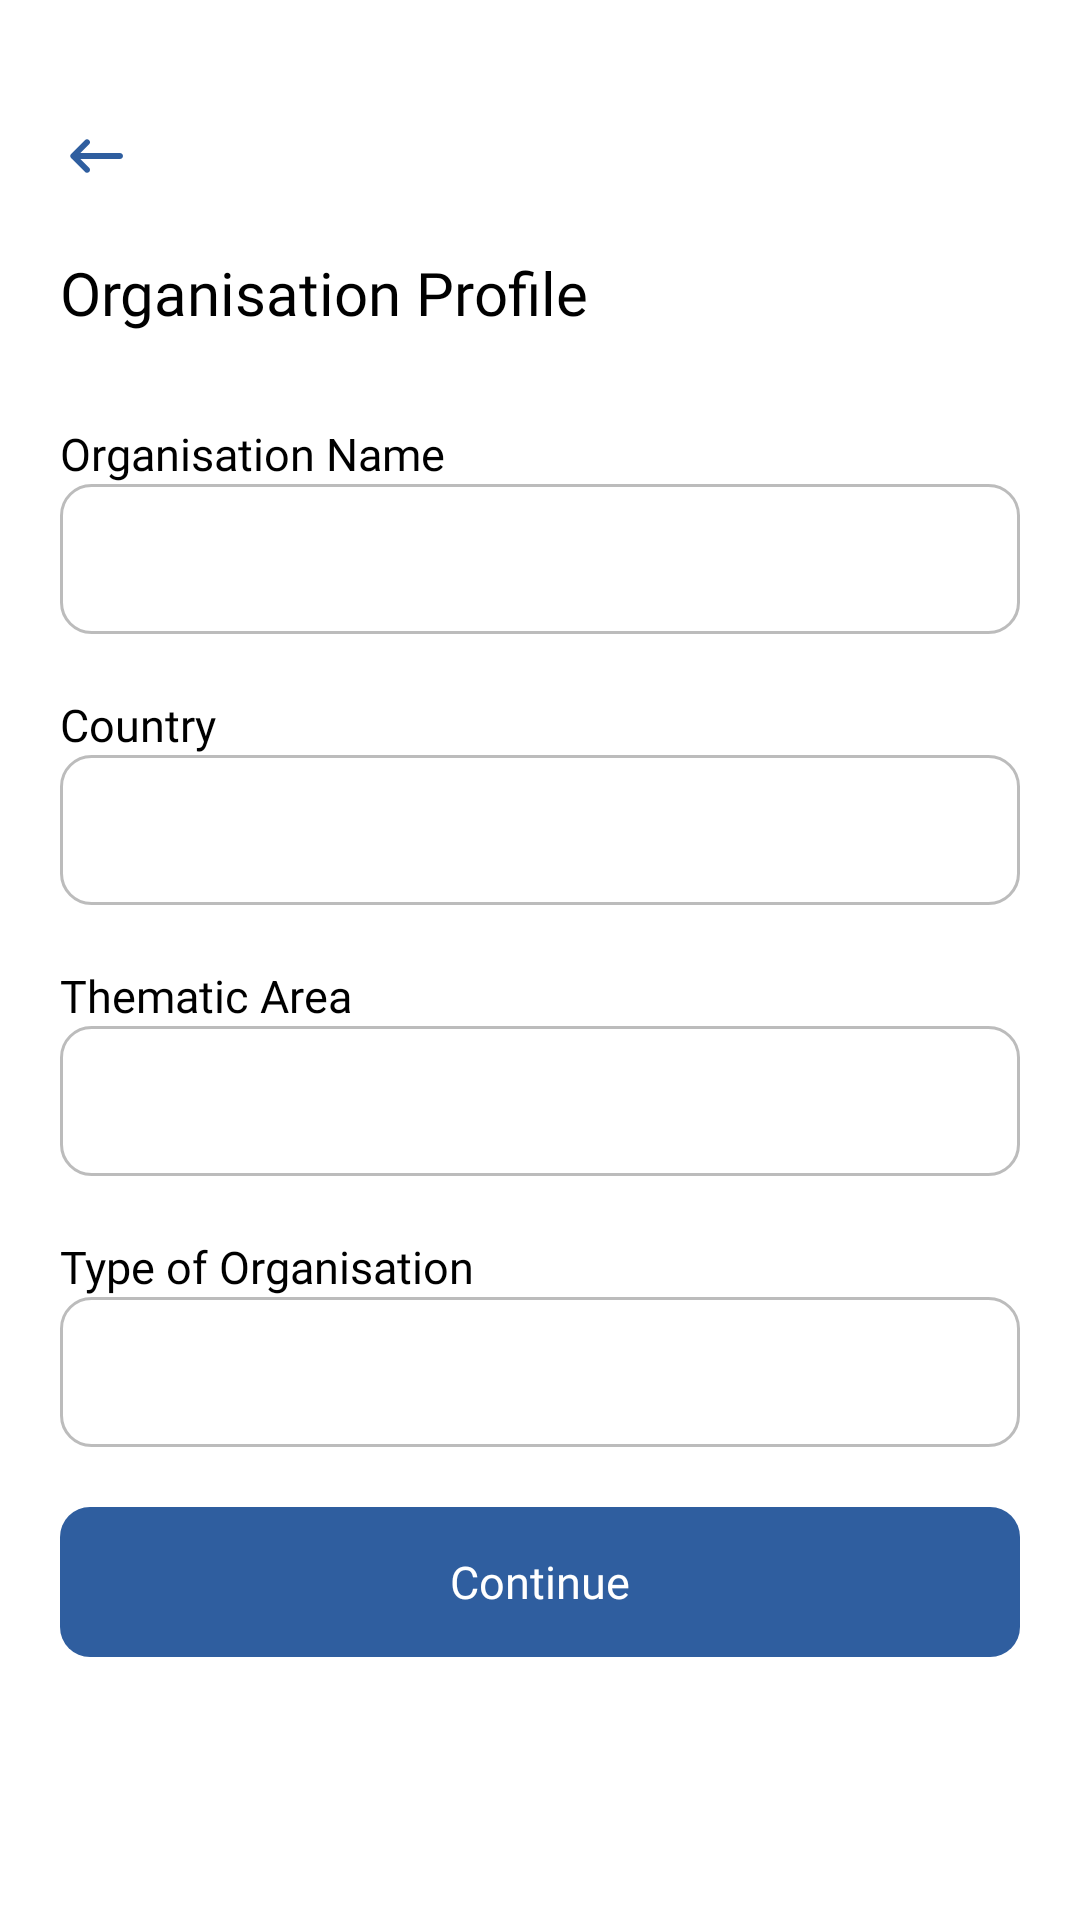

Icon click points for this 1080px×1920px phone screenshot, format [x,y]:
back: [96,156]
